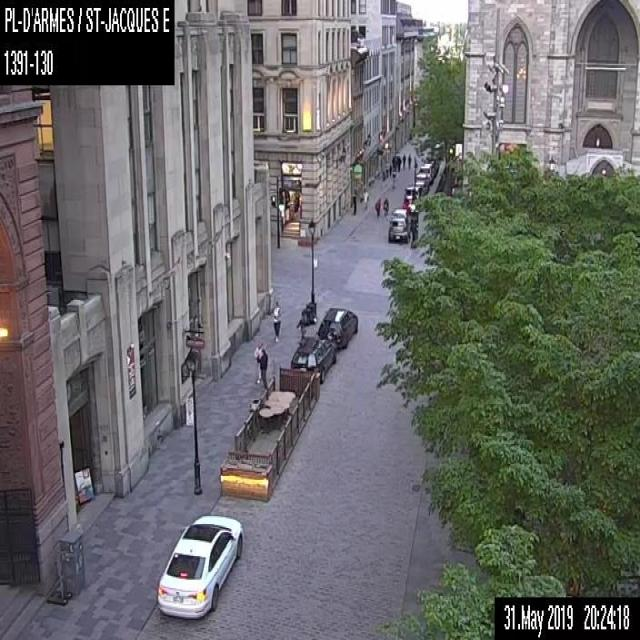pedestrian: (256, 348, 268, 387), (253, 339, 263, 382), (271, 299, 280, 342), (296, 307, 306, 337), (359, 186, 368, 210), (350, 189, 357, 215), (374, 194, 381, 218), (382, 196, 388, 218), (400, 152, 406, 170), (406, 150, 411, 168), (396, 155, 401, 171), (381, 170, 385, 180), (388, 163, 391, 176), (385, 166, 388, 177)
vehicle: (156, 511, 244, 618), (289, 336, 336, 383), (316, 306, 358, 348), (386, 214, 409, 243), (402, 185, 421, 205), (413, 172, 428, 193), (390, 207, 408, 222), (418, 166, 432, 183)
